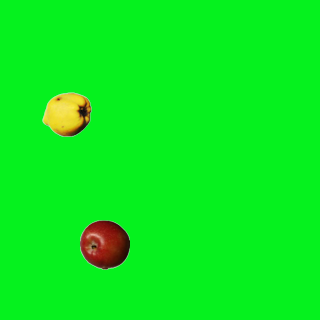Apple Braeburn: (79, 219, 129, 269)
Quince: (41, 89, 91, 139)
